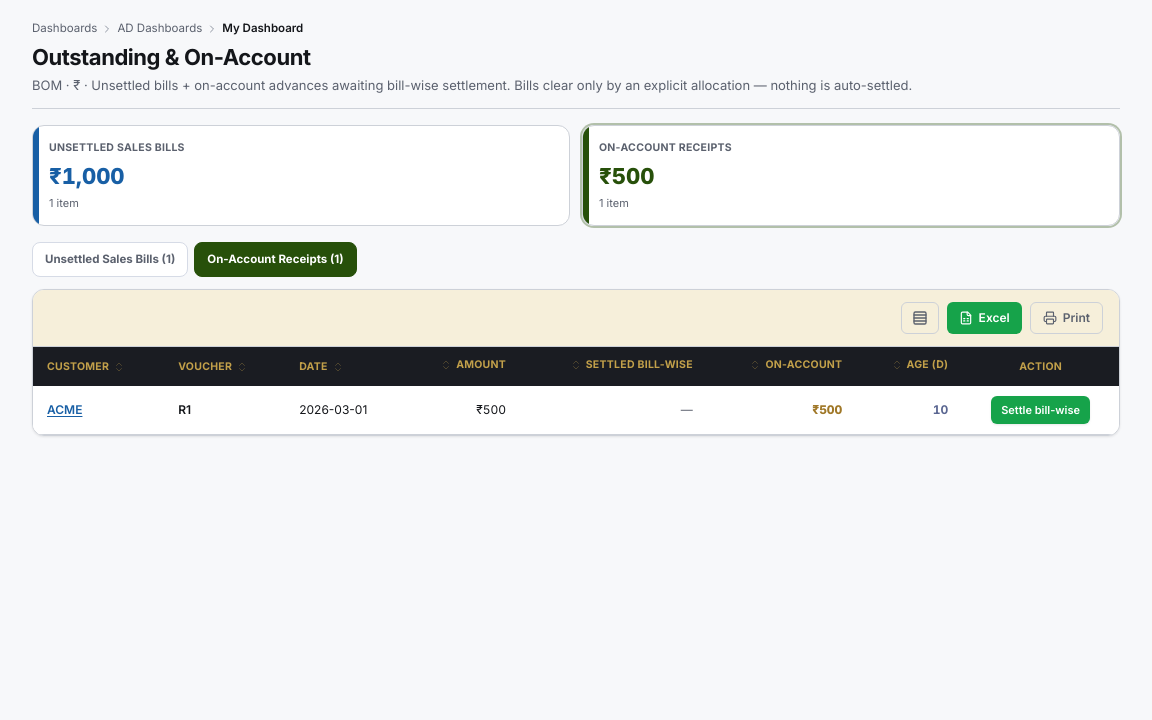
Scenario: OutstandingOnAccount — side scoping › settle modal lists Overpaid bills as a credit, not an allocatable row
Click the button "Settle bill-wise" at x=1041, y=410, box [991, 396, 1090, 424]
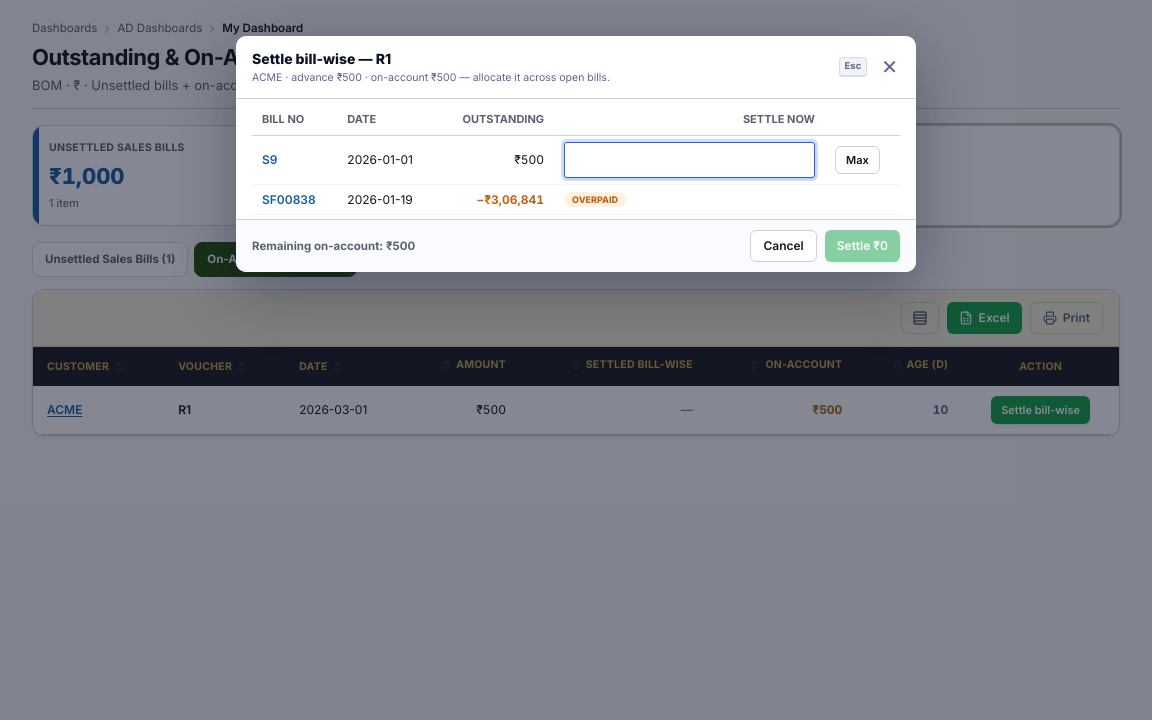
Now the number of number fields is 1, box [564, 142, 815, 178]
Now the text "Max" is shown once, box [846, 152, 869, 168]
